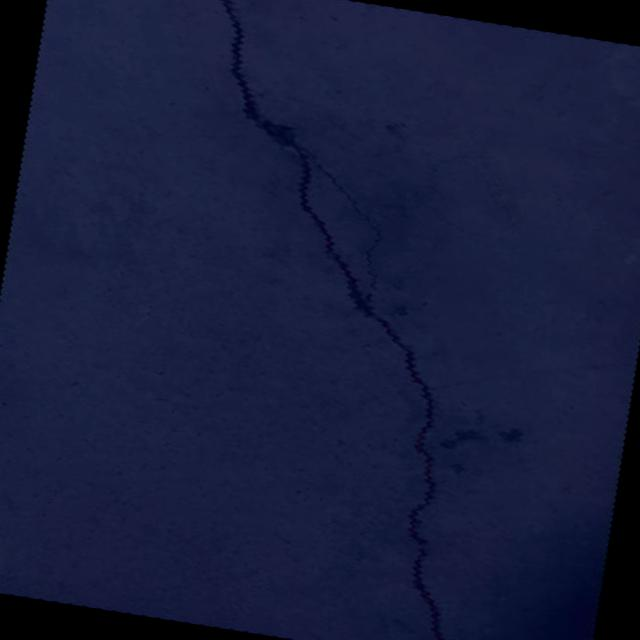crack: (78, 0, 565, 640)
